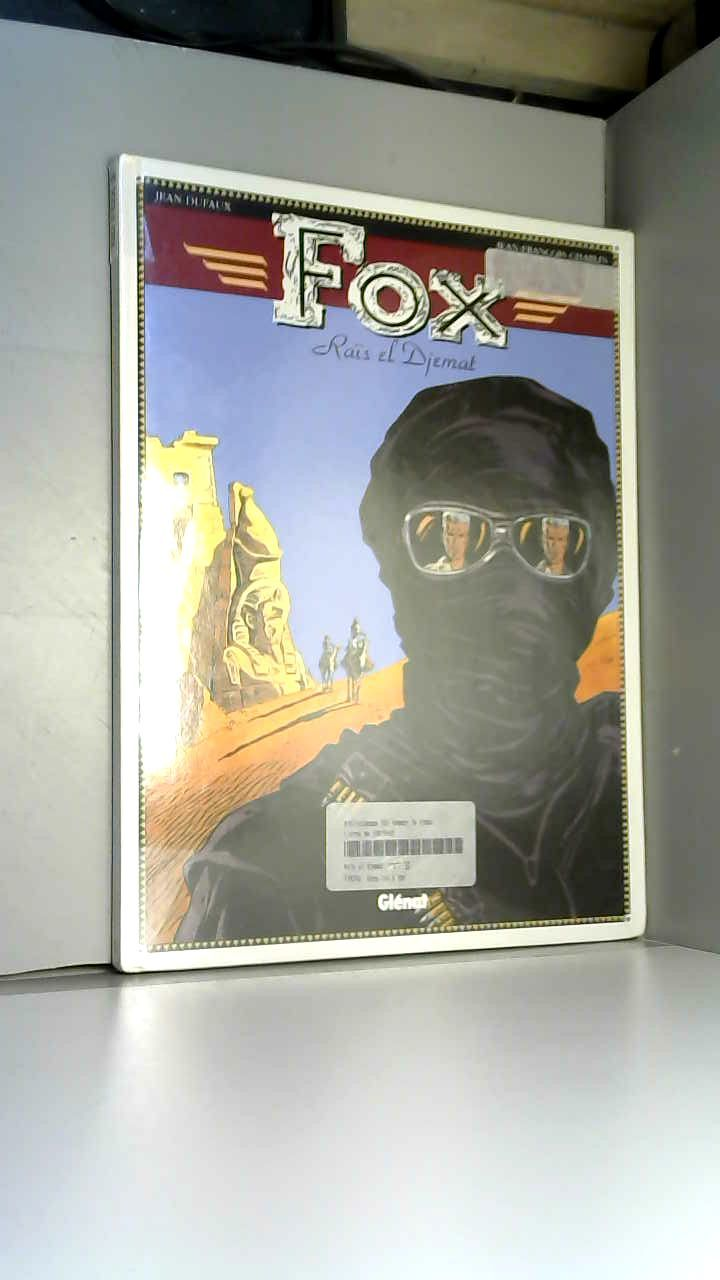book: (79, 116, 687, 1011)
